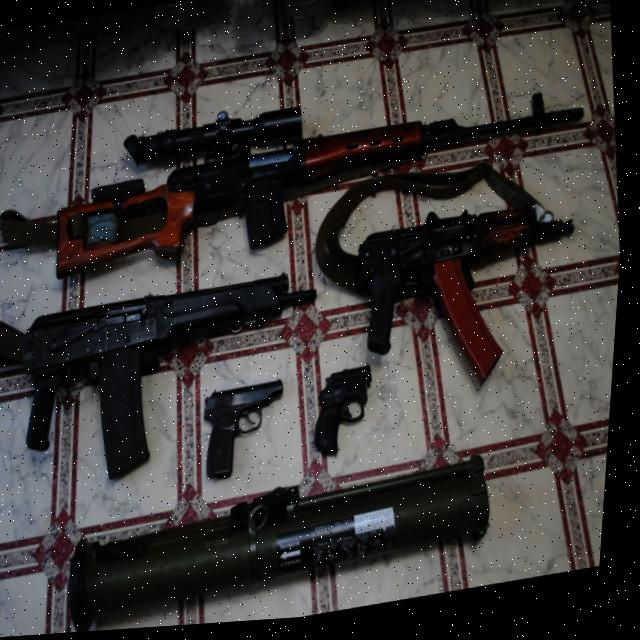firearm: (44, 55, 599, 284), (19, 270, 337, 493), (353, 203, 594, 412)
pistol: (204, 380, 297, 487), (313, 368, 385, 464)
rocket: (67, 456, 506, 635)
